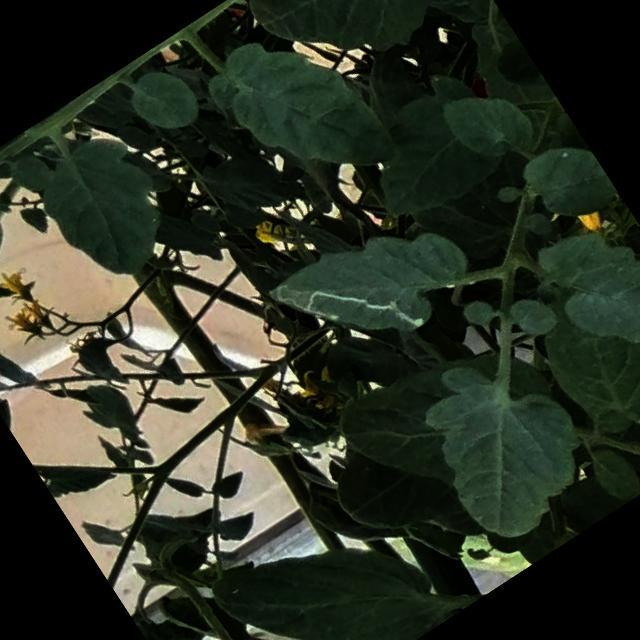Tomato healthy leaf: (390, 321, 616, 558), (193, 0, 415, 232), (17, 116, 191, 300), (525, 190, 640, 403)
Tomato target spot leaf: (254, 184, 488, 398)
